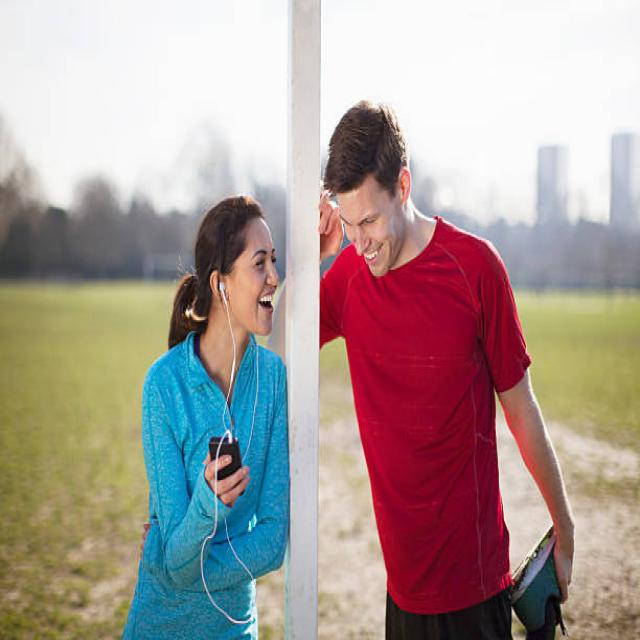Earphone: (216, 276, 260, 640)
